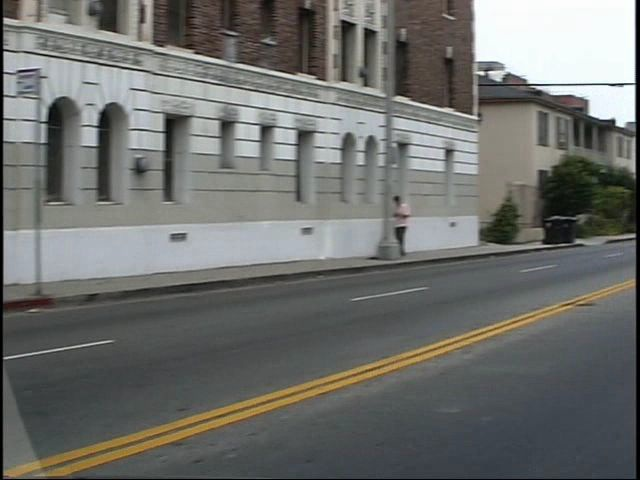person: (411, 190, 432, 256)
